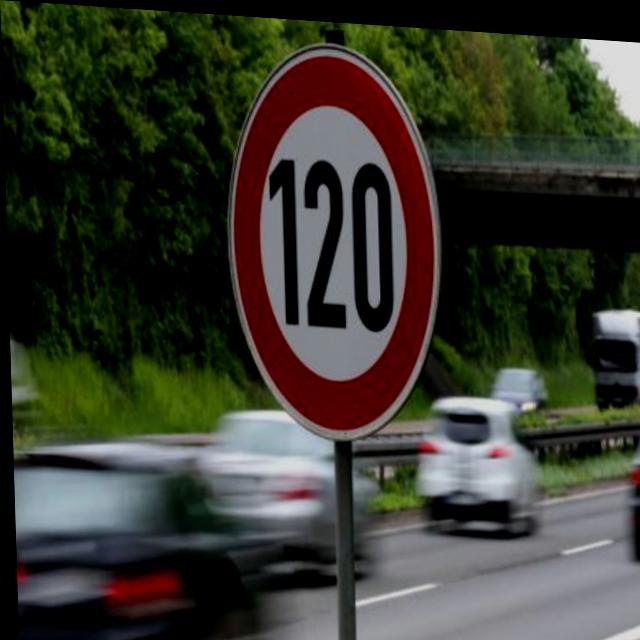limit120: (211, 28, 451, 448)
